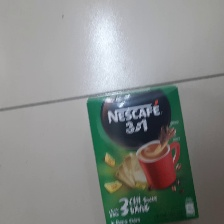Nes Rang: (84, 82, 201, 224)
